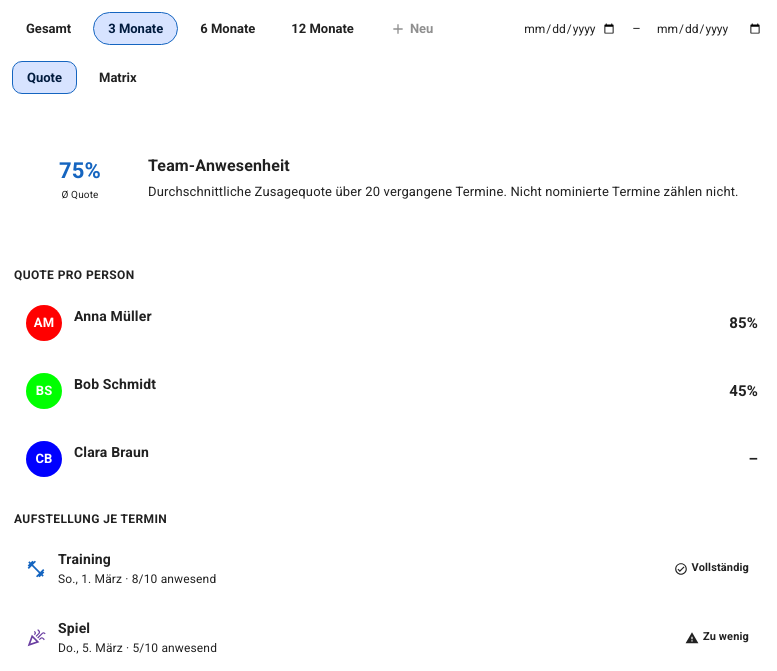
Test: Stats › switches to the matrix tab and renders the member × event grid
Click the tab "Matrix": (118, 78) [85,61,151,94]
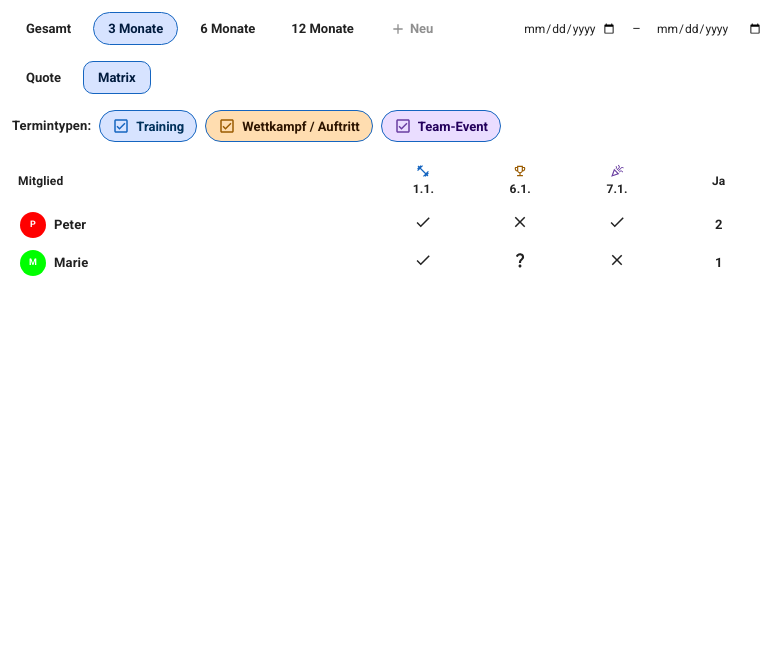
Expected: the text "Peter" is shown, [54,215,86,235]
Expected: the text "Marie" is shown, [54,253,88,273]
Expected: the text "1.1." is shown, [413,164,434,196]
